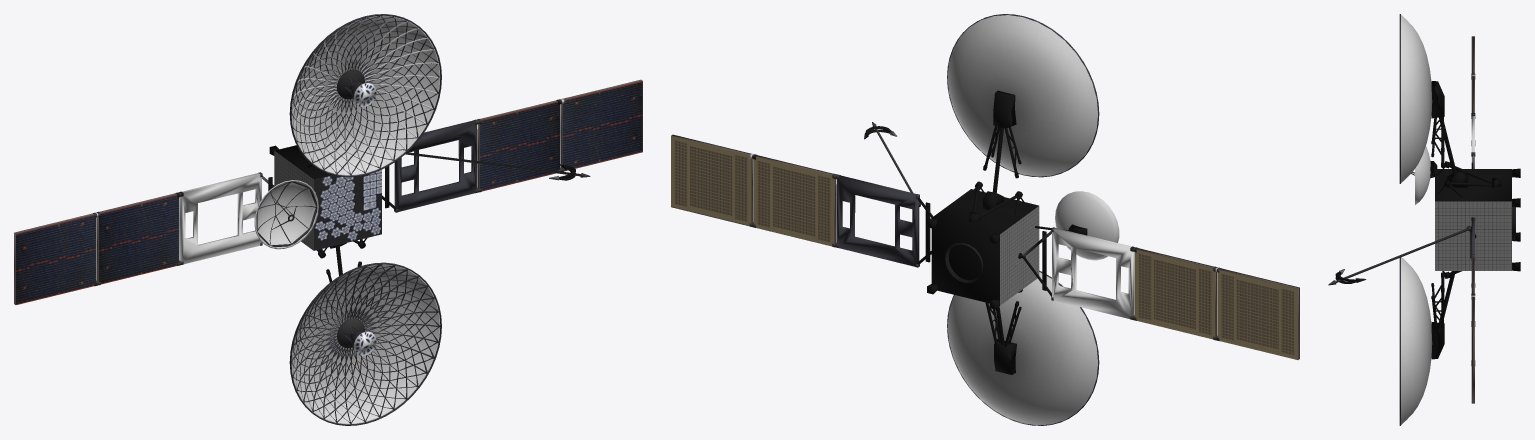
The model's file is TDRS_high.fbx.
3 views of the same model, side by side, from view 1: azimuth 30°, elevation 25°; view 2: azimuth 150°, elevation 25°; view 3: azimuth 270°, elevation 25° (orthographic). The views are drawn at different scales.
Parts seen in each view (by area): view 1: tex_01, tex_02, shiny_panel, foil_silver, black_krinkle; view 2: tex_01, tex_02, black_krinkle, shiny_panel, foil_silver; view 3: tex_02, shiny_panel, black_krinkle, tex_01, foil_silver.
Boxes of the visible parts, x1,y1,x2,y2 form: tex_01: (179,14,477,425); tex_02: (291,15,440,424); shiny_panel: (14,79,642,304); foil_silver: (93,69,590,348); black_krinkle: (262,145,575,282); tex_01: (671,14,1298,425); tex_02: (947,15,1097,425); black_krinkle: (865,90,1087,374); shiny_panel: (671,134,1299,359); foil_silver: (749,122,1220,341); tex_02: (1401,15,1432,424); shiny_panel: (1435,36,1511,403); black_krinkle: (1335,81,1520,359); tex_01: (1399,14,1474,425); foil_silver: (1328,73,1515,365).
Size of the model in its own units: 21.12 by 13.11 by 5.76.
